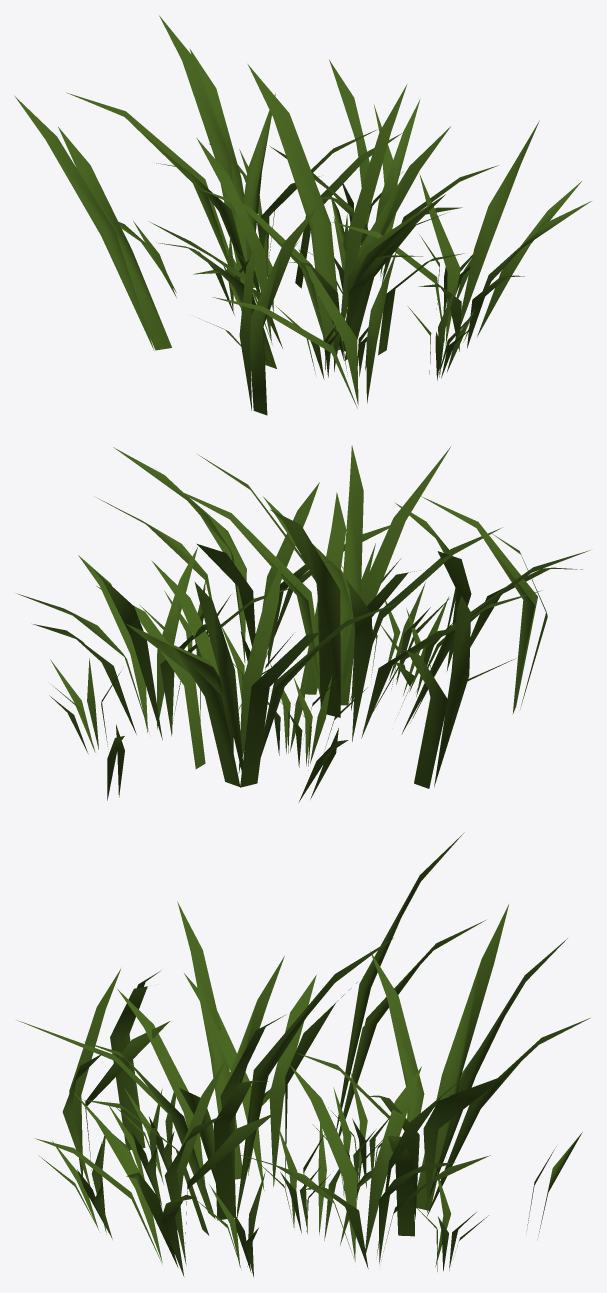
File: grass.FBX
3 renders of one model, top to bottom at view 1: azimuth 30°, elevation 25°; view 2: azimuth 150°, elevation 25°; view 3: azimuth 270°, elevation 25°, orthographic. The views are drawn at different scales.
Visible parts, largest first — view 1: bamboogras; view 2: bamboogras; view 3: bamboogras.
Part boxes in pixels (box(x1,y1,x2,y2)): bamboogras: box(14, 15, 591, 415); bamboogras: box(17, 445, 590, 801); bamboogras: box(17, 832, 589, 1277).
Size of the model in its own units: 120 by 61.19 by 120.
